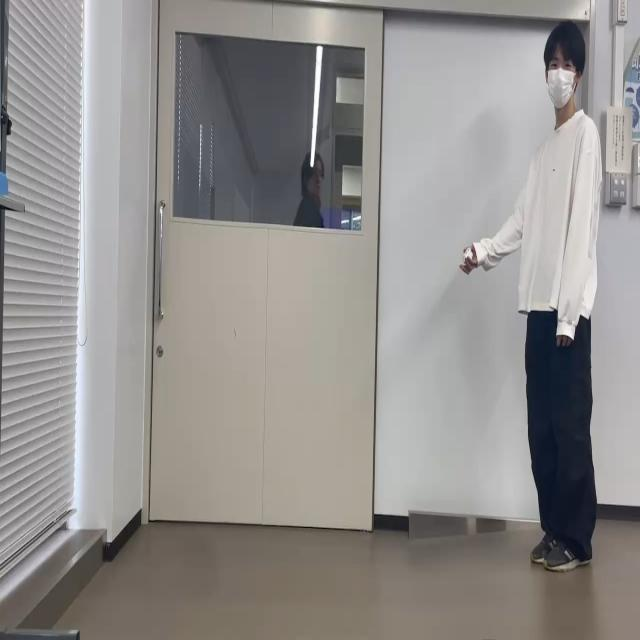paper: (458, 239, 477, 276)
